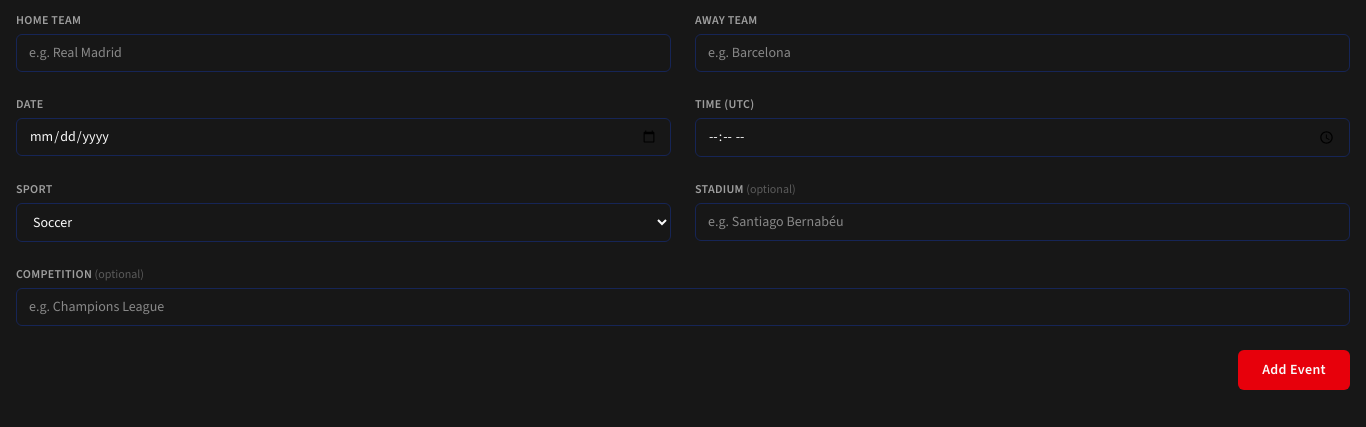
Test: AddEventForm — inline validation (onBlur) › shows error after leaving homeTeam field empty
Click the field labelled "Home Team" at (344, 53), box x1=16 y1=34 x2=671 y2=72
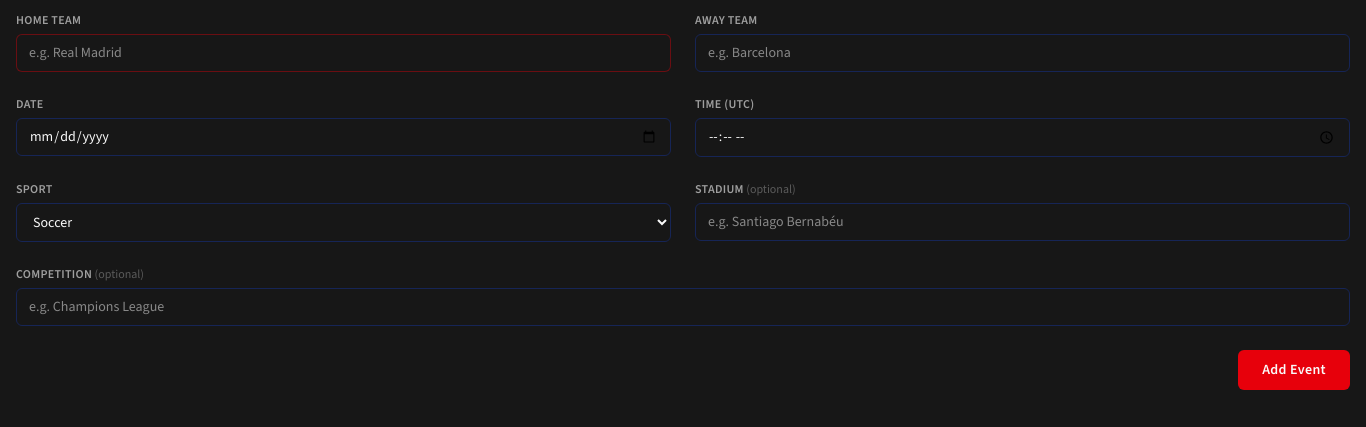
Press Tab
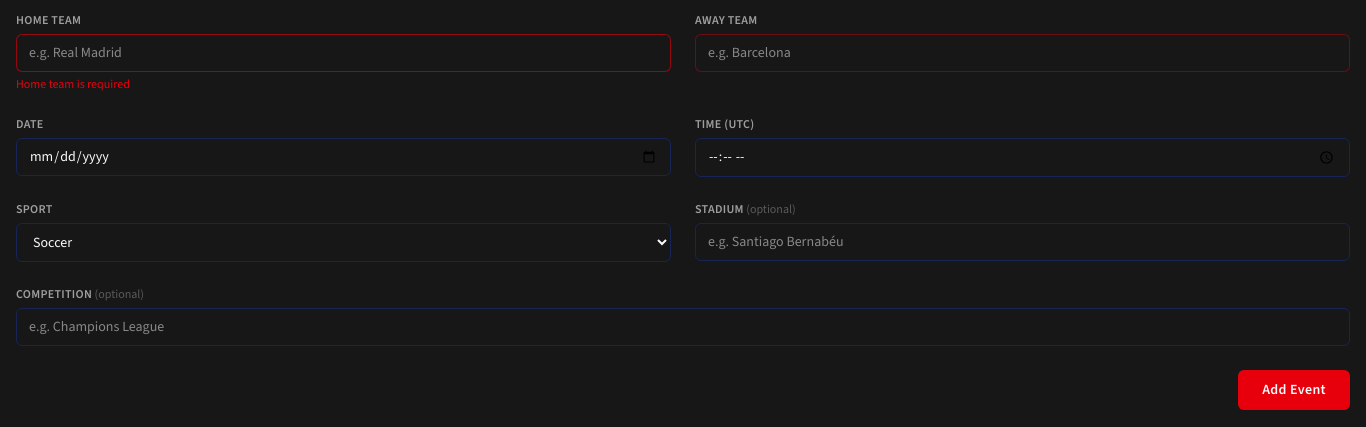
Expected: the text "Home team is required" is shown, x1=16 y1=76 x2=130 y2=92
